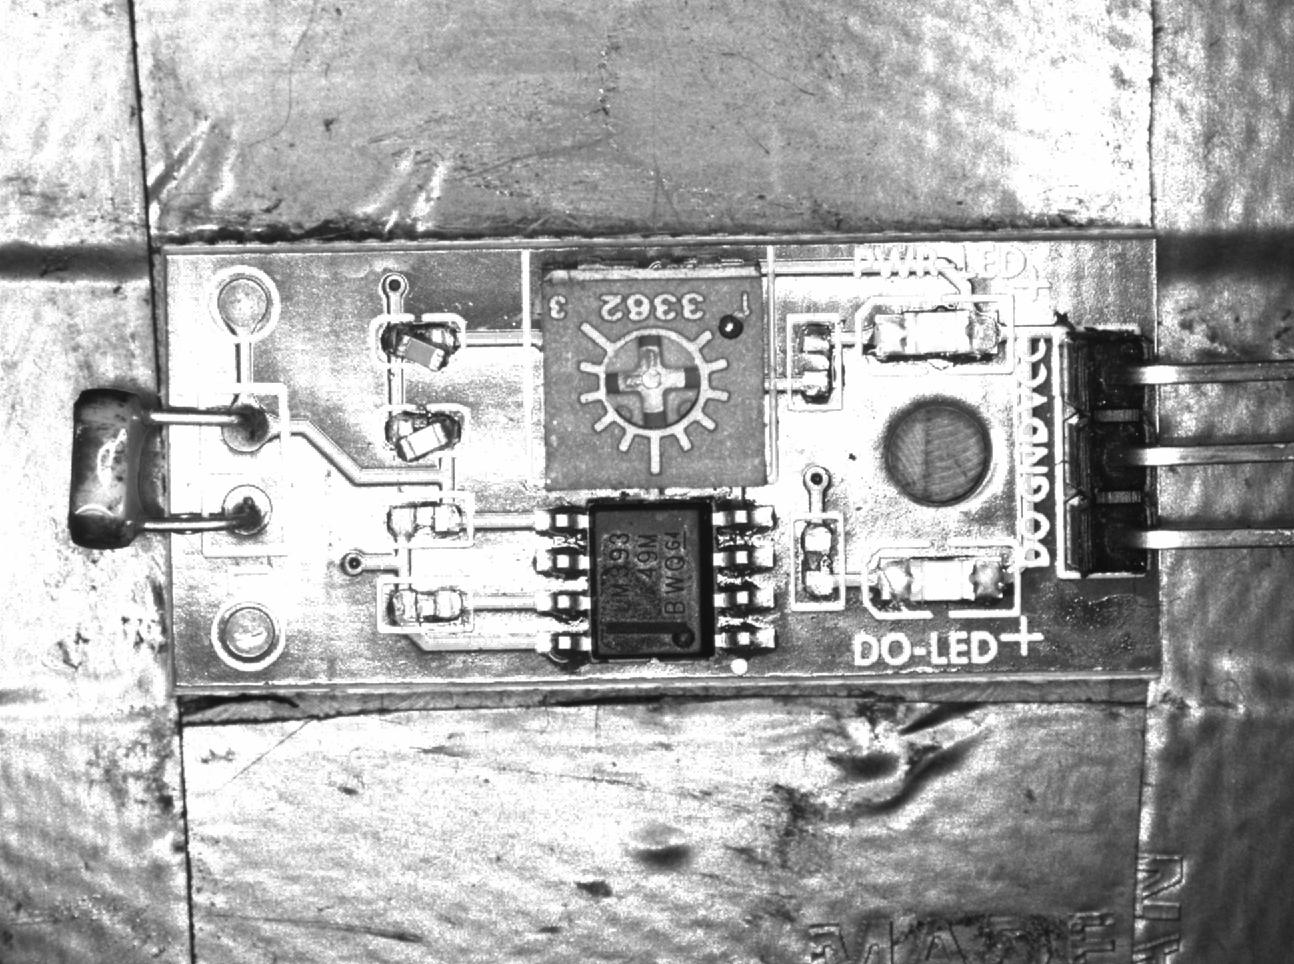lifted: (369, 316, 466, 373), (373, 407, 468, 464)
miss: (376, 577, 478, 634), (376, 489, 473, 547), (790, 514, 845, 610), (787, 316, 842, 407)
